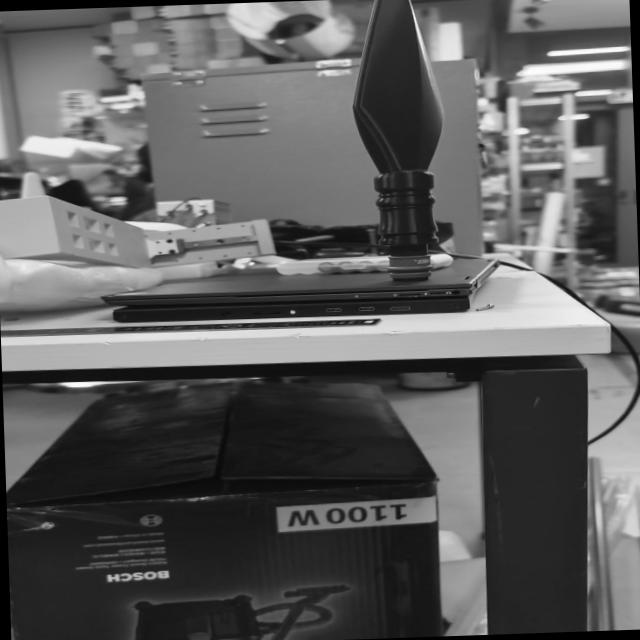base: (378, 252, 438, 284)
